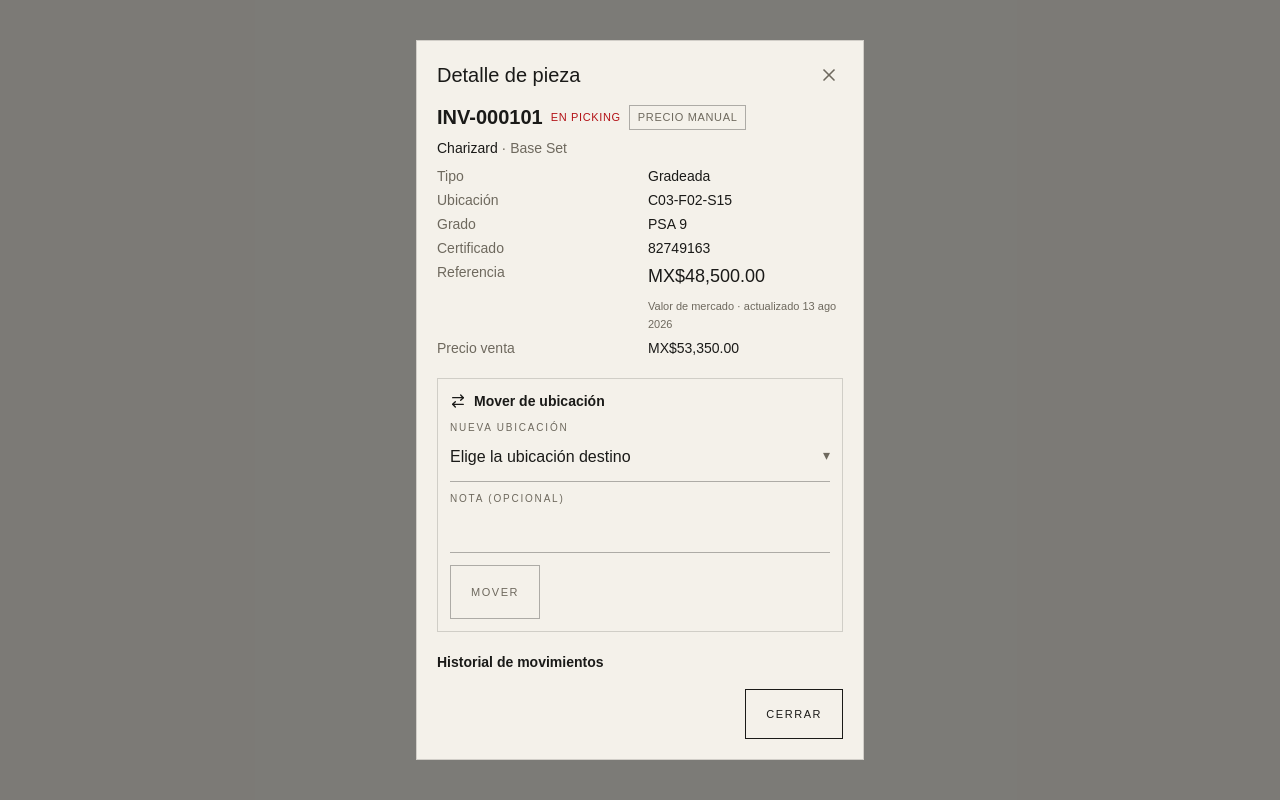
ItemDetailModal · hueco 1: mover una pieza en `picking` › en `picking` ofrece «Mover de ubicación» (solo stock de plataforma) y NO la merma ni publicar (respuesta sin location)
Expected: the heading "Mover de ubicación" is shown, [450,393,605,409]
Select "C03-F02-S16 · Stock de plataforma" in the dropdown labelled "Nueva ubicación" at (640,457), box [450,445,830,469]
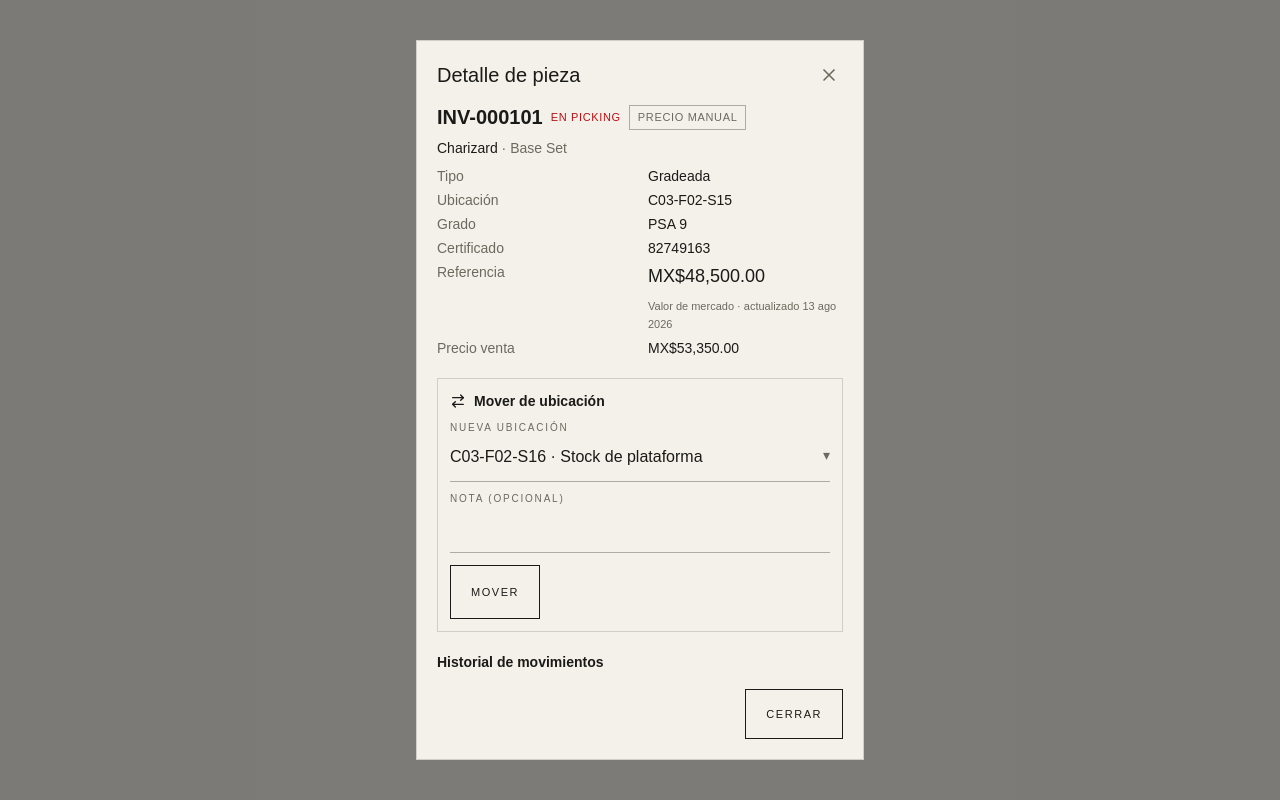
Click the button "Mover".
click(495, 592)  # box [450,565,540,619]
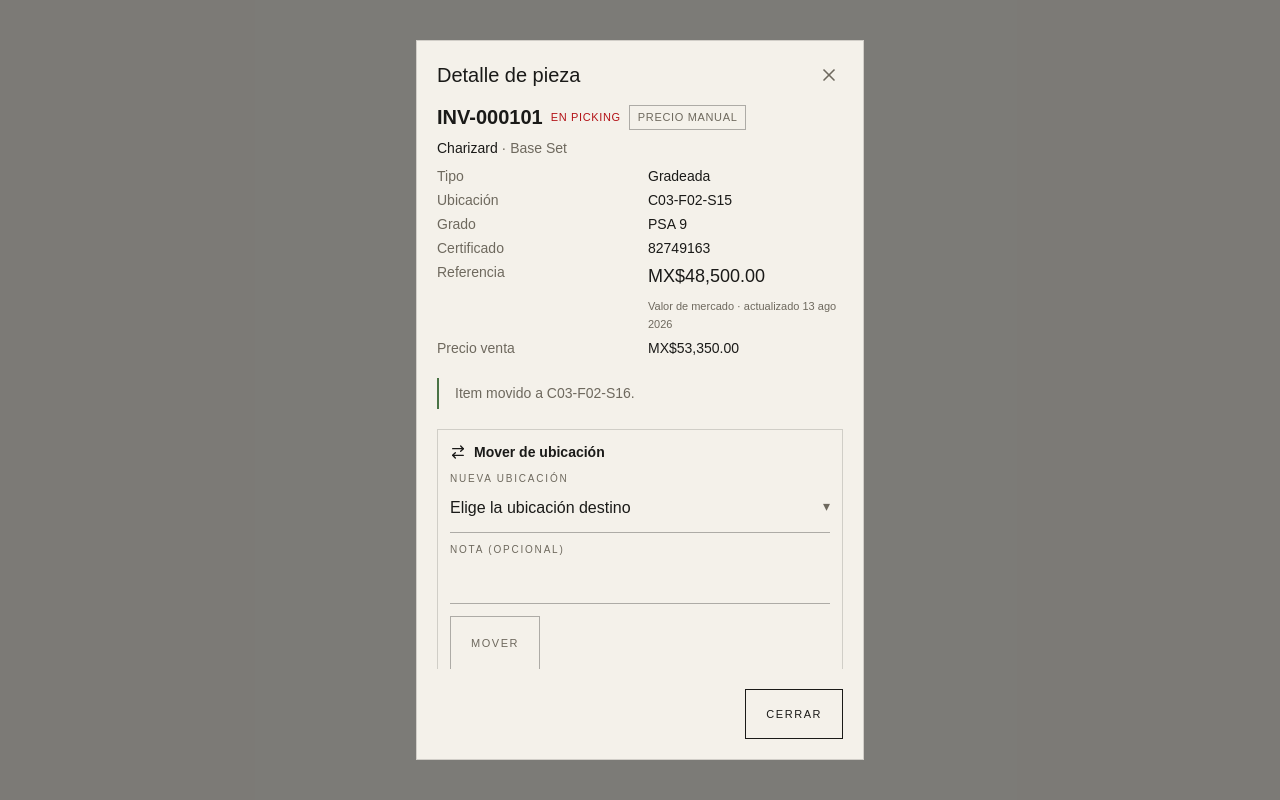
Expected: the message reads "Item movido a C03-F02-S16.", [455,385,635,401]
